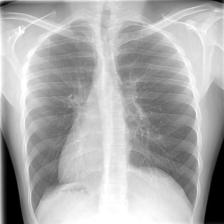normal: (19, 16, 204, 224)
